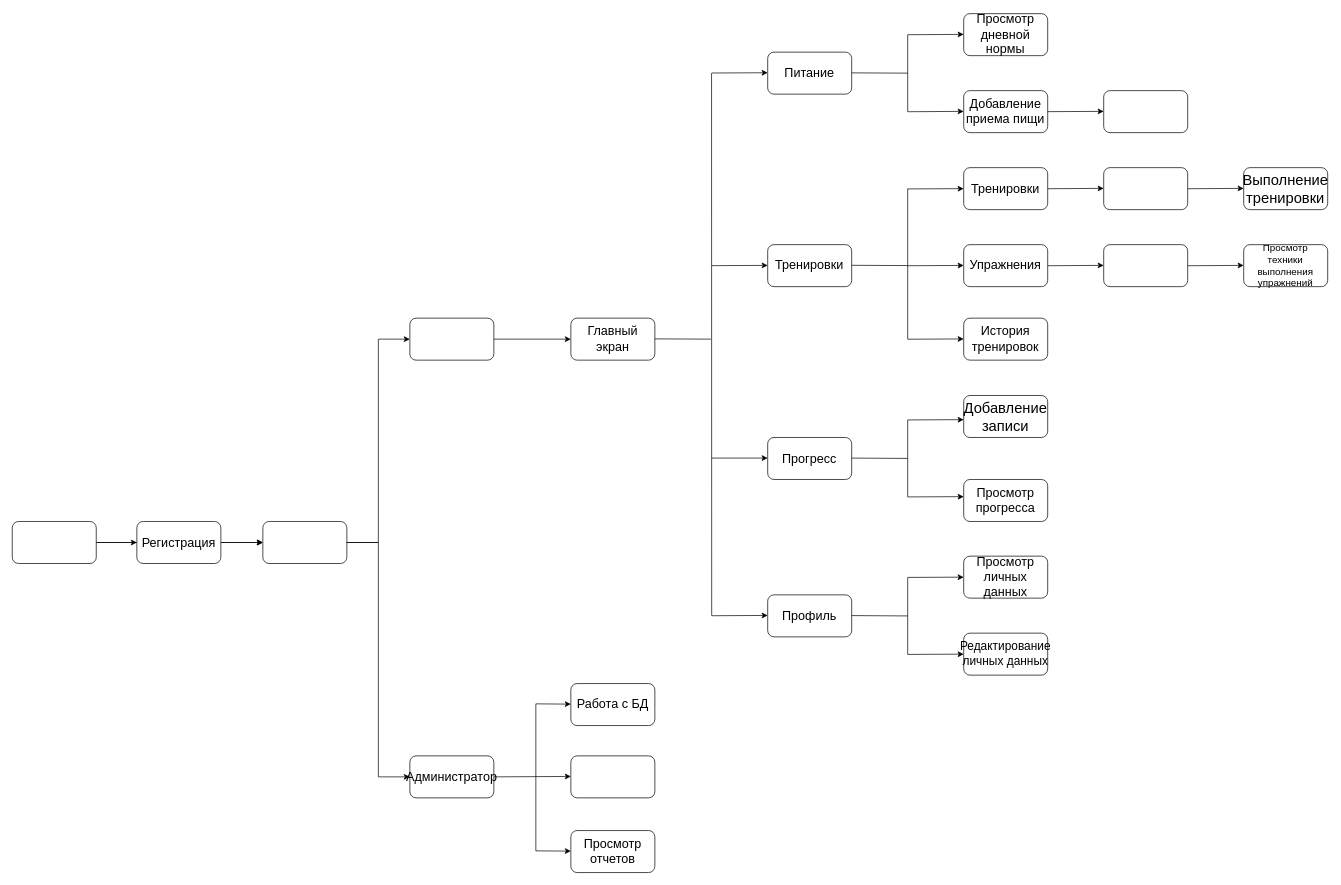
Image size: 1341x885. Some labels were removed from this diagram. Here are the shapes that lost their labels. From the top down, the box of each, then its label:
(1103, 90, 1188, 133): Ввод данных о приеме
(1103, 167, 1188, 210): Выбор шаблона тренировки
(1103, 244, 1188, 287): Выбор мышечной группы и упражнения
(409, 317, 494, 360): Пользователь
(12, 521, 96, 564): Гость
(262, 521, 347, 564): Авторизация
(570, 755, 655, 798): Просмотр статистики
